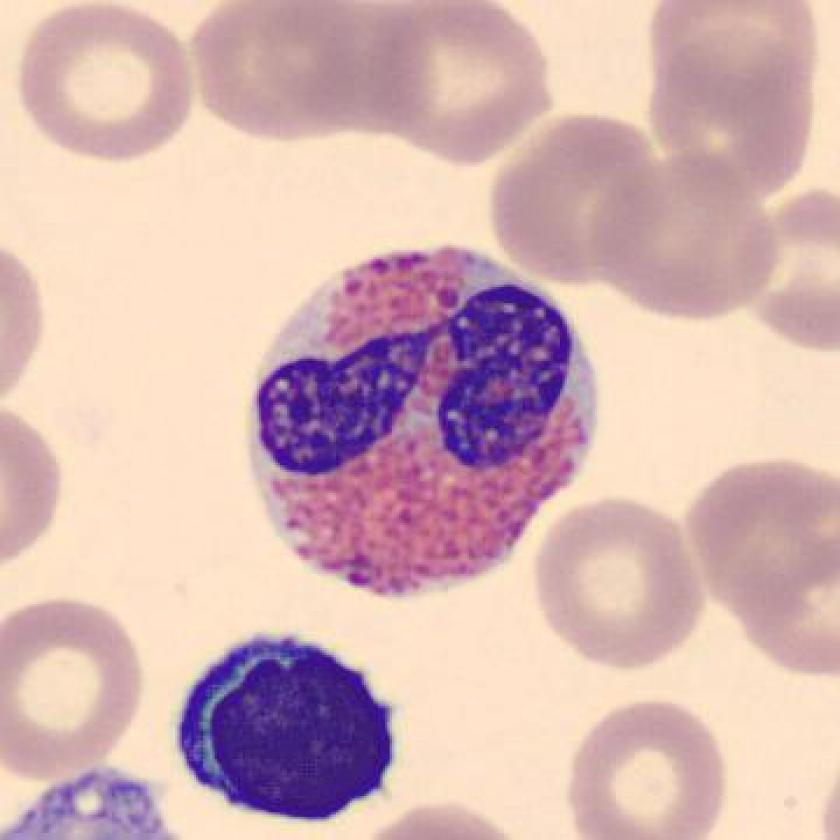eosinophil: (237, 237, 617, 612)
